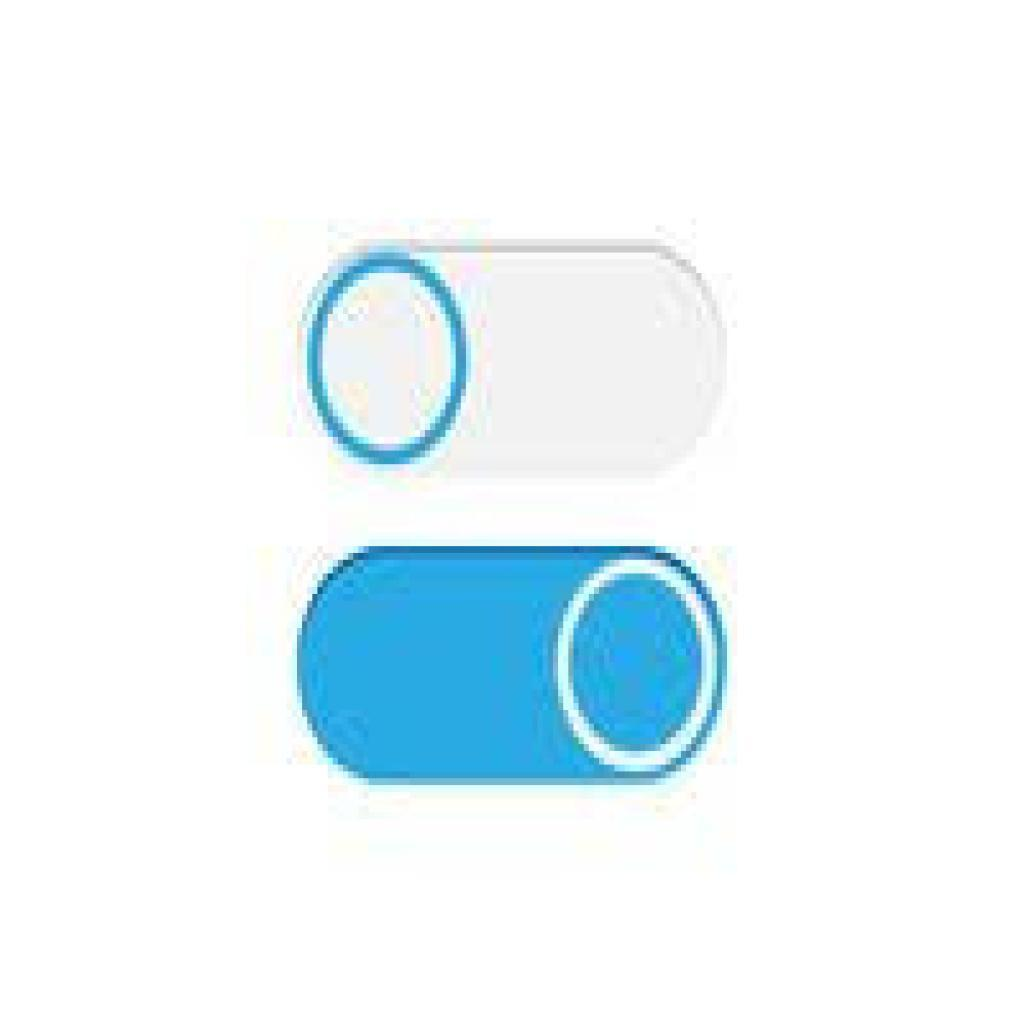switch: (298, 546, 731, 789), (298, 239, 732, 478)
